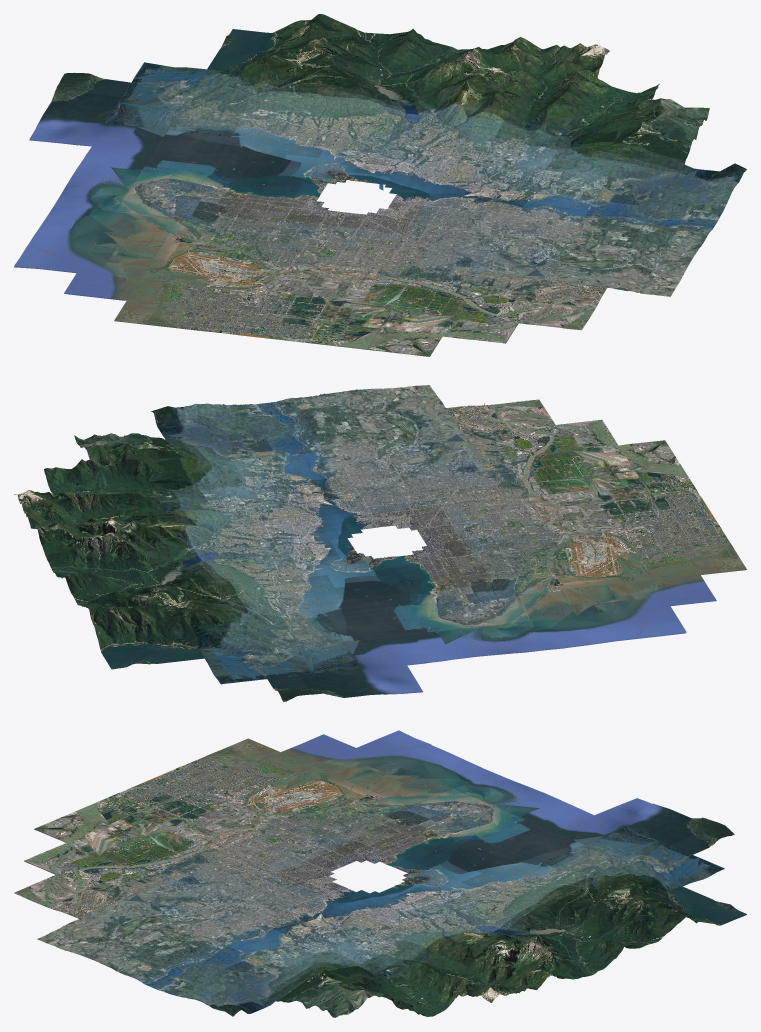
Rendered from foto_fern_handy.glb.
3 renders of one model, top to bottom at view 1: azimuth 30°, elevation 25°; view 2: azimuth 150°, elevation 25°; view 3: azimuth 270°, elevation 25°, orthographic. The views are drawn at different scales.
Visible parts, largest first — view 1: k57, k4, k0, k63, k64, k10, k78, k61, k8, k75, k9, k48 (+74 smaller); view 2: k27, k26, k65, k6, k59, k4, k22, k61, k67, k14, k13, k60 (+67 smaller); view 3: k8, k64, k50, k44, k51, k58, k47, k48, k53, k3, k33, k79 (+69 smaller).
Boxes of the visible parts, left/top/right/bottom form: k57: left=608, top=145, right=683, bottom=185; k4: left=181, top=82, right=256, bottom=112; k0: left=168, top=108, right=243, bottom=137; k63: left=508, top=95, right=583, bottom=129; k64: left=495, top=113, right=570, bottom=149; k10: left=29, top=116, right=104, bottom=146; k78: left=531, top=279, right=607, bottom=309; k61: left=545, top=145, right=620, bottom=176; k8: left=55, top=72, right=130, bottom=102; k75: left=468, top=272, right=543, bottom=301; k9: left=42, top=91, right=117, bottom=123; k48: left=607, top=267, right=682, bottom=296; k27: left=142, top=620, right=204, bottom=663; k26: left=95, top=626, right=157, bottom=669; k65: left=143, top=453, right=199, bottom=495; k6: left=191, top=613, right=250, bottom=657; k59: left=151, top=403, right=212, bottom=440; k4: left=235, top=612, right=297, bottom=648; k22: left=142, top=537, right=202, bottom=577; k61: left=184, top=454, right=246, bottom=490; k67: left=92, top=461, right=152, bottom=495; k14: left=530, top=616, right=593, bottom=649; k13: left=484, top=621, right=546, bottom=654; k60: left=197, top=403, right=259, bottom=435; k8: left=659, top=817, right=734, bottom=854; k64: left=362, top=941, right=435, bottom=977; k50: left=102, top=945, right=177, bottom=978; k44: left=122, top=882, right=197, bottom=915; k51: left=135, top=959, right=209, bottom=992; k58: left=210, top=956, right=285, bottom=987; k47: left=79, top=900, right=154, bottom=933; k48: left=37, top=919, right=111, bottom=951; k53: left=313, top=981, right=383, bottom=1015; k3: left=650, top=854, right=724, bottom=886; k33: left=479, top=939, right=543, bottom=972; k79: left=14, top=874, right=88, bottom=906.
Bounding box in the file's own units: 37652 × 2236 × 38818.
554 materials, 554 textured.
